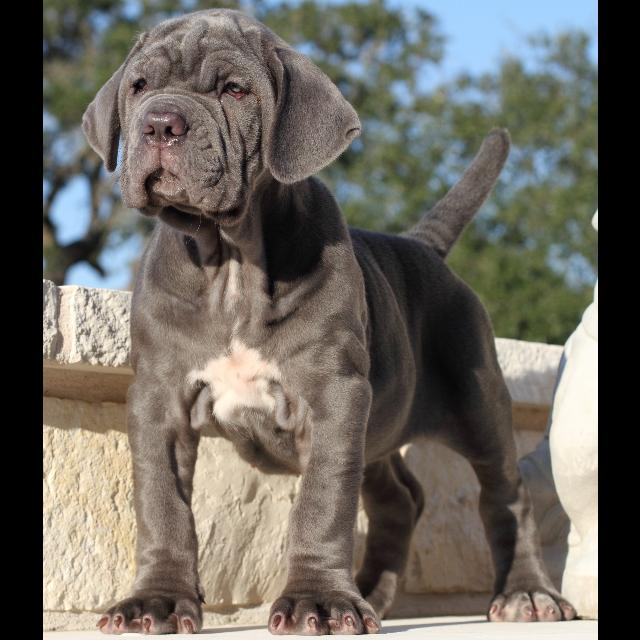mastino_napoletano: (82, 9, 579, 638)
